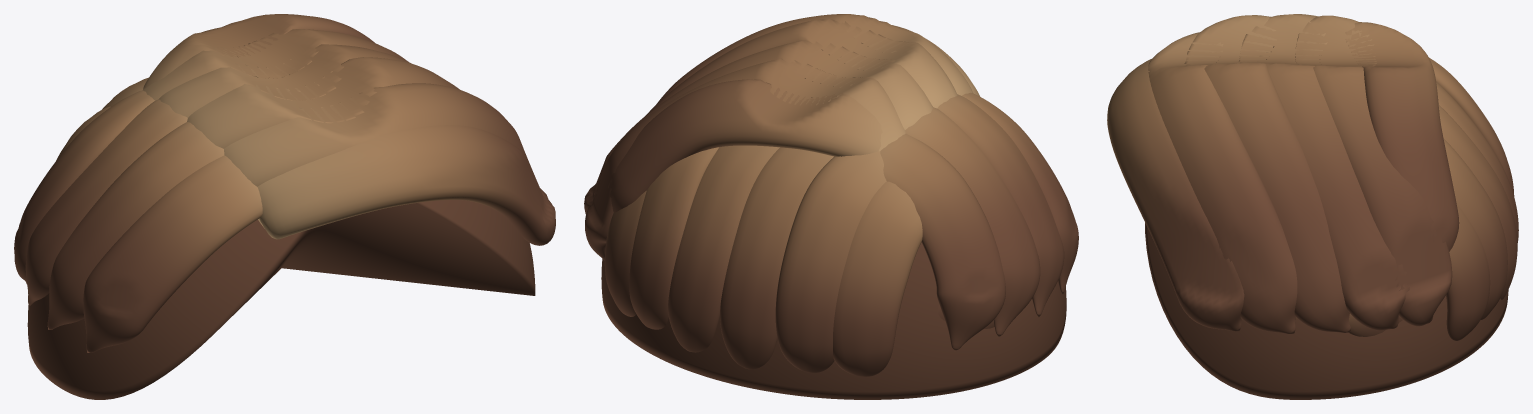
The model's file is Masculine-sidepart-cowboy258-hair-ombre.glb.
3 views of the same model, side by side, from view 1: azimuth 30°, elevation 25°; view 2: azimuth 150°, elevation 25°; view 3: azimuth 270°, elevation 25° (orthographic). The views are drawn at different scales.
Parts seen in each view (by area): view 1: 226 hair / Hair258 / sculpted side sweep 1, 226 hair / Hair258 / recessed roots, 226 hair / Hair258 / sculpted side sweep 0, 226 hair / Hair258 / sculpted side sweep 2; view 2: 226 hair / Hair258 / sculpted side sweep 0, 226 hair / Hair258 / sculpted side sweep 1, 226 hair / Hair258 / sculpted side sweep 2, 226 hair / Hair258 / recessed roots; view 3: 226 hair / Hair258 / sculpted side sweep 0, 226 hair / Hair258 / sculpted side sweep 1, 226 hair / Hair258 / sculpted side sweep 2, 226 hair / Hair258 / recessed roots.
Part boxes in pixels (bbox=[...]): 226 hair / Hair258 / sculpted side sweep 1: bbox=[14, 44, 555, 352]; 226 hair / Hair258 / recessed roots: bbox=[27, 200, 535, 399]; 226 hair / Hair258 / sculpted side sweep 0: bbox=[47, 14, 530, 329]; 226 hair / Hair258 / sculpted side sweep 2: bbox=[25, 57, 459, 305]; 226 hair / Hair258 / sculpted side sweep 0: bbox=[585, 14, 1064, 372]; 226 hair / Hair258 / sculpted side sweep 1: bbox=[584, 25, 1078, 369]; 226 hair / Hair258 / sculpted side sweep 2: bbox=[646, 19, 1040, 376]; 226 hair / Hair258 / recessed roots: bbox=[601, 242, 1066, 399]; 226 hair / Hair258 / sculpted side sweep 0: bbox=[1148, 15, 1514, 336]; 226 hair / Hair258 / sculpted side sweep 1: bbox=[1107, 14, 1518, 340]; 226 hair / Hair258 / sculpted side sweep 2: bbox=[1184, 15, 1517, 332]; 226 hair / Hair258 / recessed roots: bbox=[1145, 223, 1508, 399].
Size of the model in its own units: 0.9741 by 0.5484 by 0.7913.
